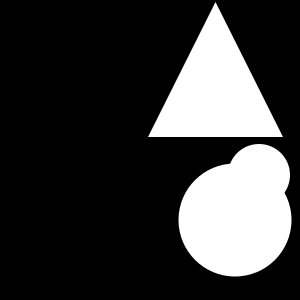rectangle: (178, 163, 292, 276), (228, 144, 290, 206)
triangle: (148, 2, 283, 137)
